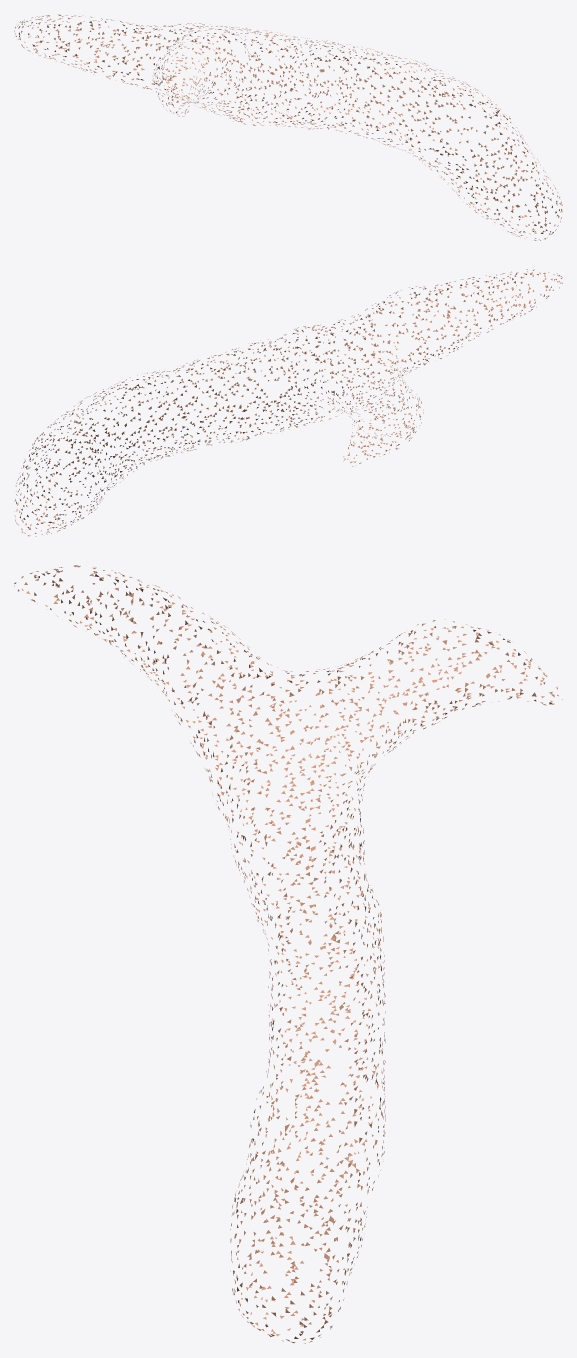
File: morph_004.glb
3 renders of one model, top to bottom at view 1: azimuth 30°, elevation 25°; view 2: azimuth 150°, elevation 25°; view 3: azimuth 270°, elevation 25°, orthographic. The views are drawn at different scales.
Size of the model in its own units: 120 by 79.29 by 83.83.
